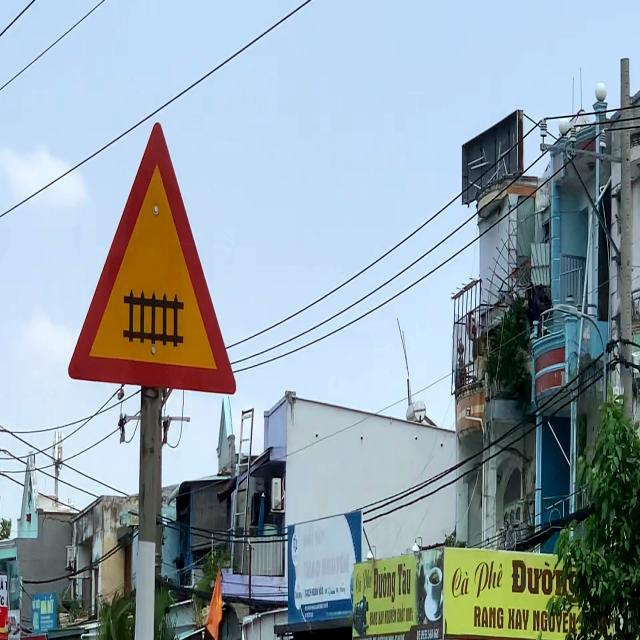Giao nhau voi duong sat co rao chan: (53, 102, 246, 416)
